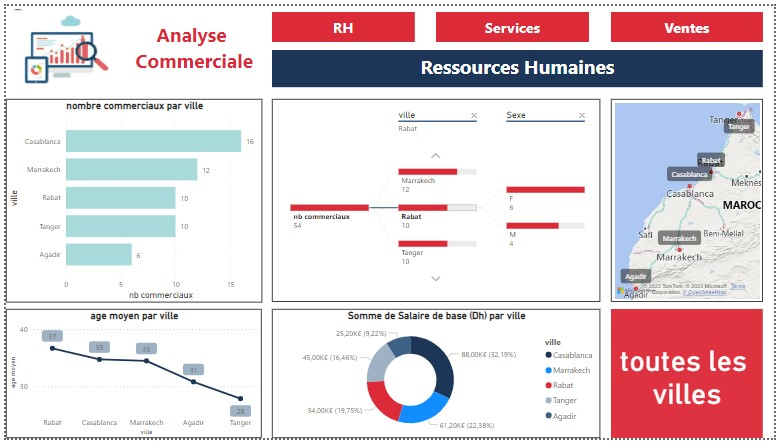

What the dashboard file says about the page in this screenshot:
{"tool":"powerbi","page":{"name":"RH","canvas":[1280,720],"ordinal":0},"visuals":[{"type":"actionButton","box":[0,0,100,40],"z":0},{"type":"textbox","box":[201.4,20,224.3,115.7],"z":1000},{"type":"textbox","box":[443.5,73.4,817.9,61.9],"z":2000},{"type":"clusteredBarChart","title":"nombre commerciaux par ville","fields":{"Category":["RH.ville"],"Y":["RH.nb commerciaux"]},"box":[0,155.7,427.1,338.6],"z":3000},{"type":"image","box":[0,0,201.4,155.7],"z":4000},{"type":"decompositionTreeVisual","fields":{"Analyze":["RH.nb commerciaux"],"ExplainBy":["RH.ville","RH.Sexe"]},"box":[443.5,155.5,547.2,338.4],"z":5000},{"type":"textbox","box":[0,505,427,215],"z":6000},{"type":"map","fields":{"Category":["RH.ville"]},"box":[1008.3,155,253.3,338.3],"z":7000},{"type":"lineChart","fields":{"Category":["RH.ville"],"Y":["RH.age moyen"]},"box":[0,505,426.2,215],"z":8000},{"type":"donutChart","fields":{"Category":["RH.ville"],"Y":["Sum(RH.Salaire de base (Dh))"]},"box":[444,505,547,215],"z":9000},{"type":"card","fields":{"Values":["RH.ville séléctionnée"]},"box":[1008,505,253,215],"z":10000},{"type":"actionButton","title":"RH","box":[443.5,10.1,237.6,50.4],"z":11000},{"type":"actionButton","title":"RH","box":[717.1,10.1,254.9,50.4],"z":11001},{"type":"actionButton","title":"RH","box":[1008,10.1,253.4,50.4],"z":11002}]}

Visuals, with their boxes in screenshot pixels (x1, y1, x2, y2), scaled from the page's 1280x720 canvas onto the 780x444 screenshot:
actionButton: {"x1": 0, "y1": 0, "x2": 61, "y2": 25}
textbox: {"x1": 123, "y1": 12, "x2": 259, "y2": 84}
textbox: {"x1": 270, "y1": 45, "x2": 769, "y2": 83}
"nombre commerciaux par ville" clusteredBarChart: {"x1": 0, "y1": 96, "x2": 260, "y2": 305}
image: {"x1": 0, "y1": 0, "x2": 123, "y2": 96}
decompositionTreeVisual - RH.nb commerciaux x RH.ville: {"x1": 270, "y1": 96, "x2": 604, "y2": 305}
textbox: {"x1": 0, "y1": 311, "x2": 260, "y2": 443}
map - RH.ville: {"x1": 614, "y1": 96, "x2": 769, "y2": 304}
lineChart - RH.ville x RH.age moyen: {"x1": 0, "y1": 311, "x2": 260, "y2": 443}
donutChart - RH.ville x Sum(RH.Salaire de base (Dh)): {"x1": 271, "y1": 311, "x2": 604, "y2": 443}
card - RH.ville séléctionnée: {"x1": 614, "y1": 311, "x2": 768, "y2": 443}
"RH" actionButton: {"x1": 270, "y1": 6, "x2": 415, "y2": 37}
"RH" actionButton: {"x1": 437, "y1": 6, "x2": 592, "y2": 37}
"RH" actionButton: {"x1": 614, "y1": 6, "x2": 769, "y2": 37}
